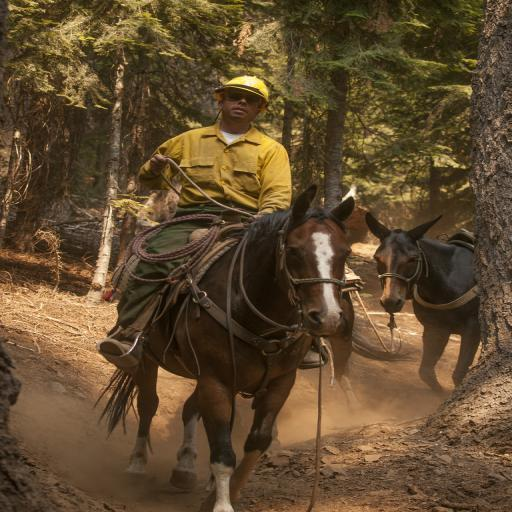horse: (92, 183, 358, 512)
